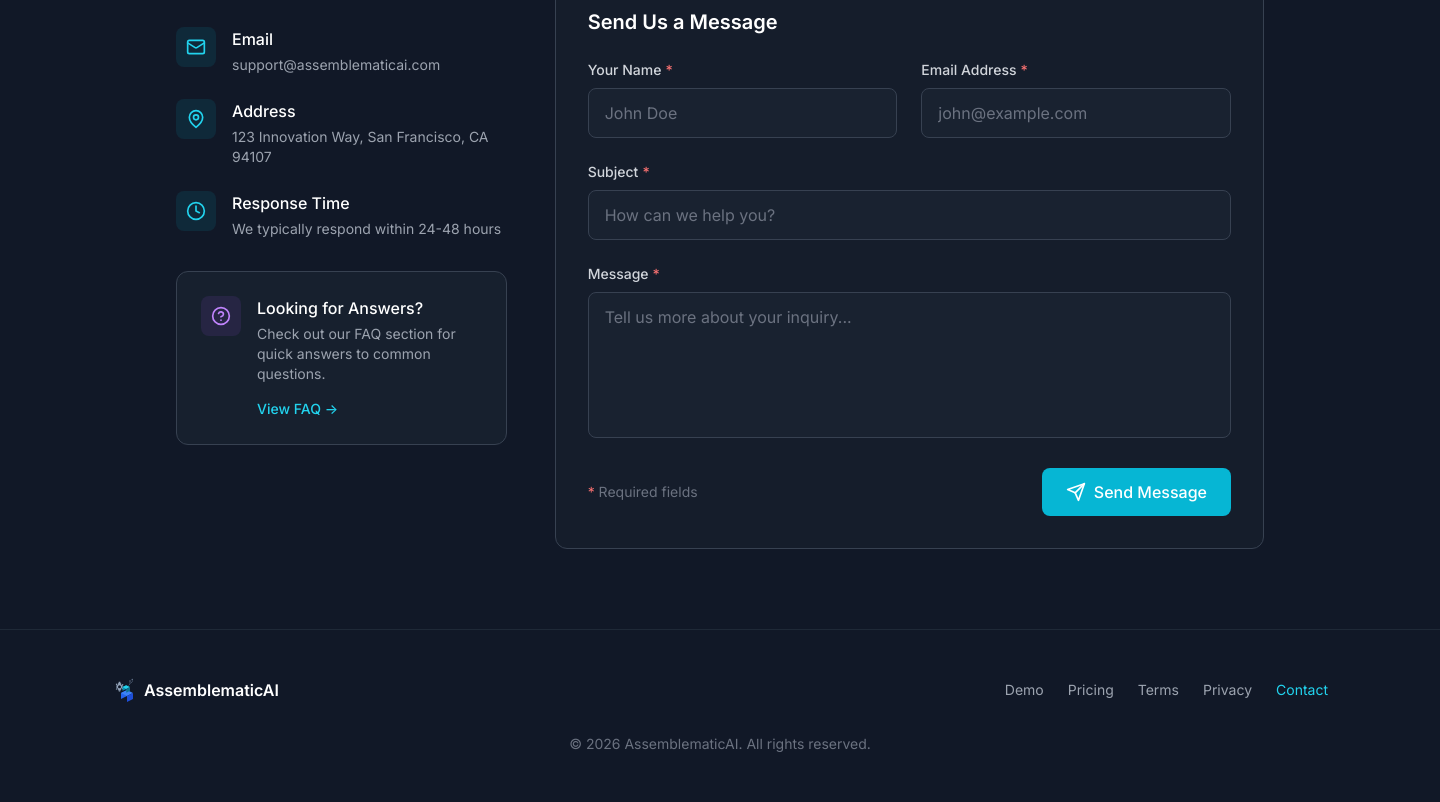
Test: ContactPage › Form Validation › clears error when user starts typing
The width and height of the screenshot is (1440, 802).
(page scrolled)
# Submit to show error
Click the button "Send Message" at [1136, 492], box [1042, 468, 1231, 516]
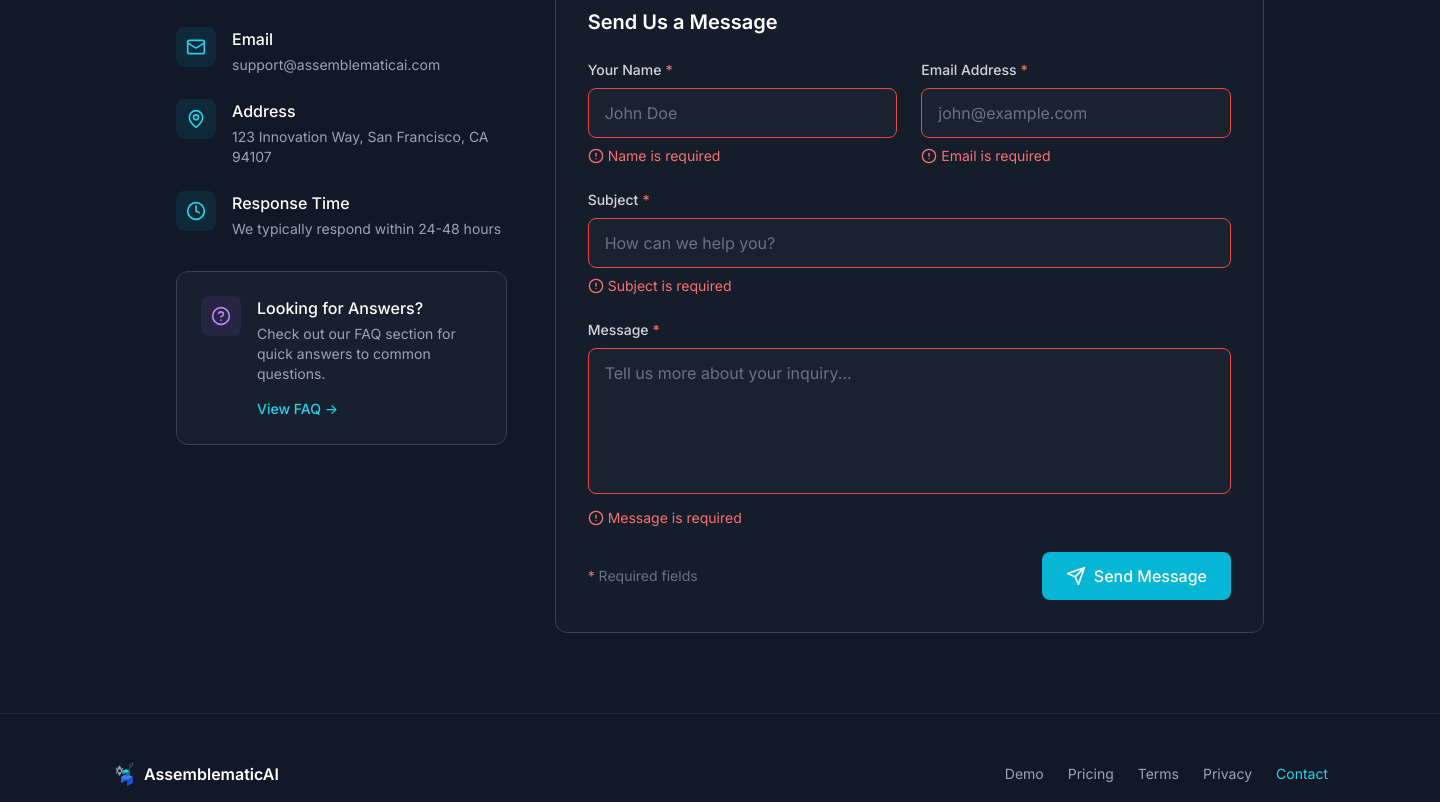
Now the text "Name is required" is shown, box [588, 147, 720, 164]
# Type to clear error
Type "John" into the field labelled "Your Name*" at [743, 113], box [588, 88, 897, 138]
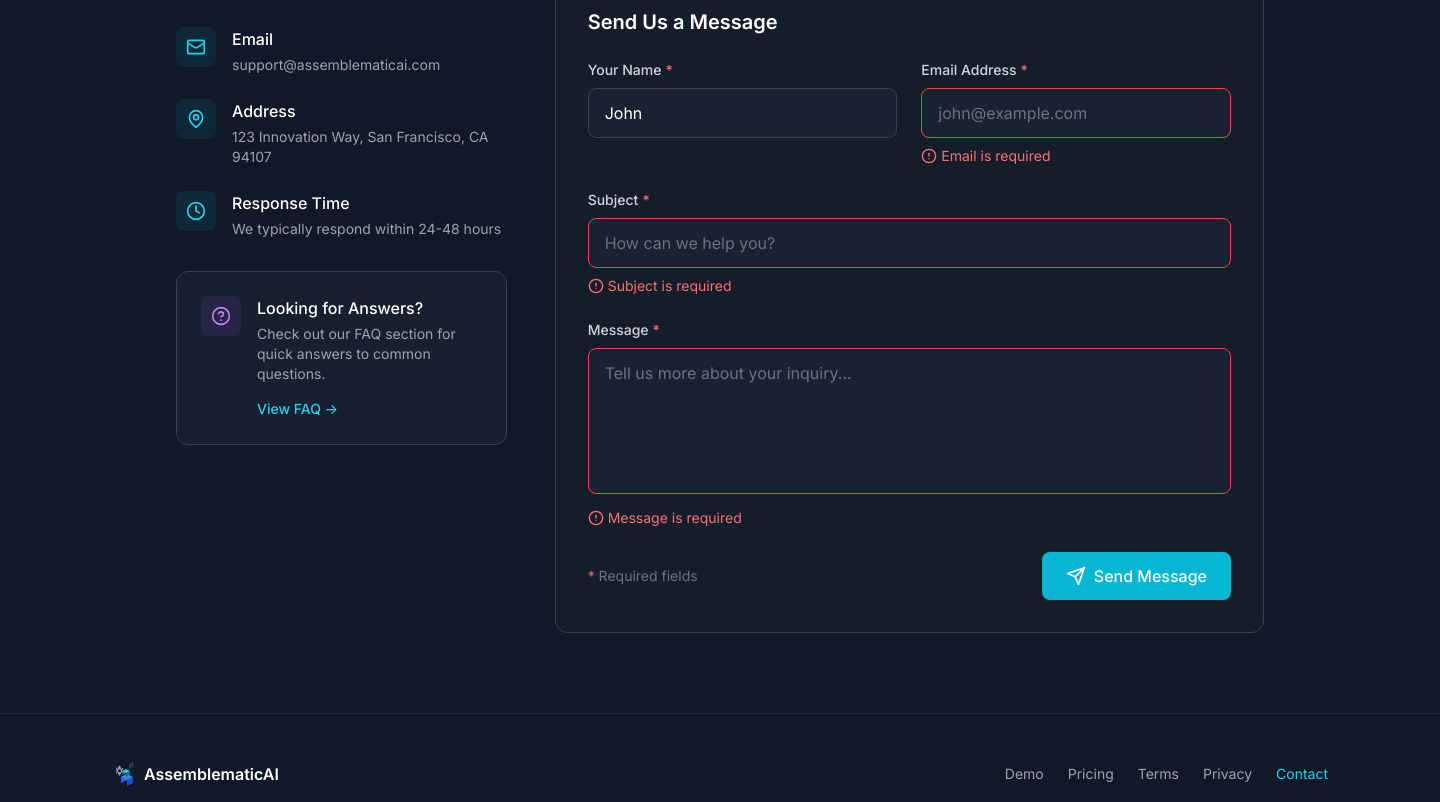
Now the text "Name is required" is gone
